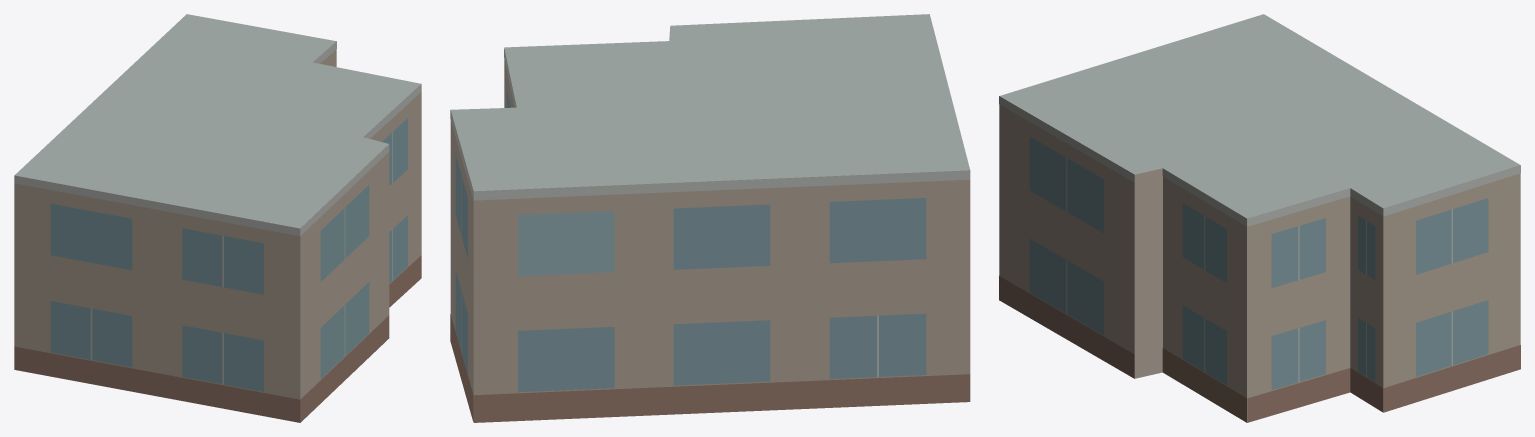
The model's file is survey-upis-32726634.glb.
3 views of the same model, side by side, from view 1: azimuth 30°, elevation 25°; view 2: azimuth 150°, elevation 25°; view 3: azimuth 270°, elevation 25° (orthographic). The views are drawn at different scales.
Visible parts, largest first — view 1: survey-upis-32726634.tmp; view 2: survey-upis-32726634.tmp; view 3: survey-upis-32726634.tmp.
Boxes of the visible parts, box(x1,y1,x2,y2) form: survey-upis-32726634.tmp: box(14, 14, 421, 422); survey-upis-32726634.tmp: box(450, 14, 970, 422); survey-upis-32726634.tmp: box(999, 14, 1520, 422).
Size of the model in its own units: 13.12 by 6.1 by 14.13.
